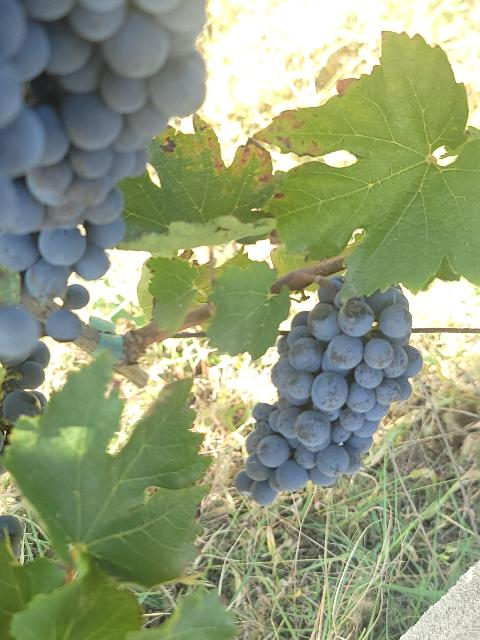grapes: (235, 286, 422, 506)
